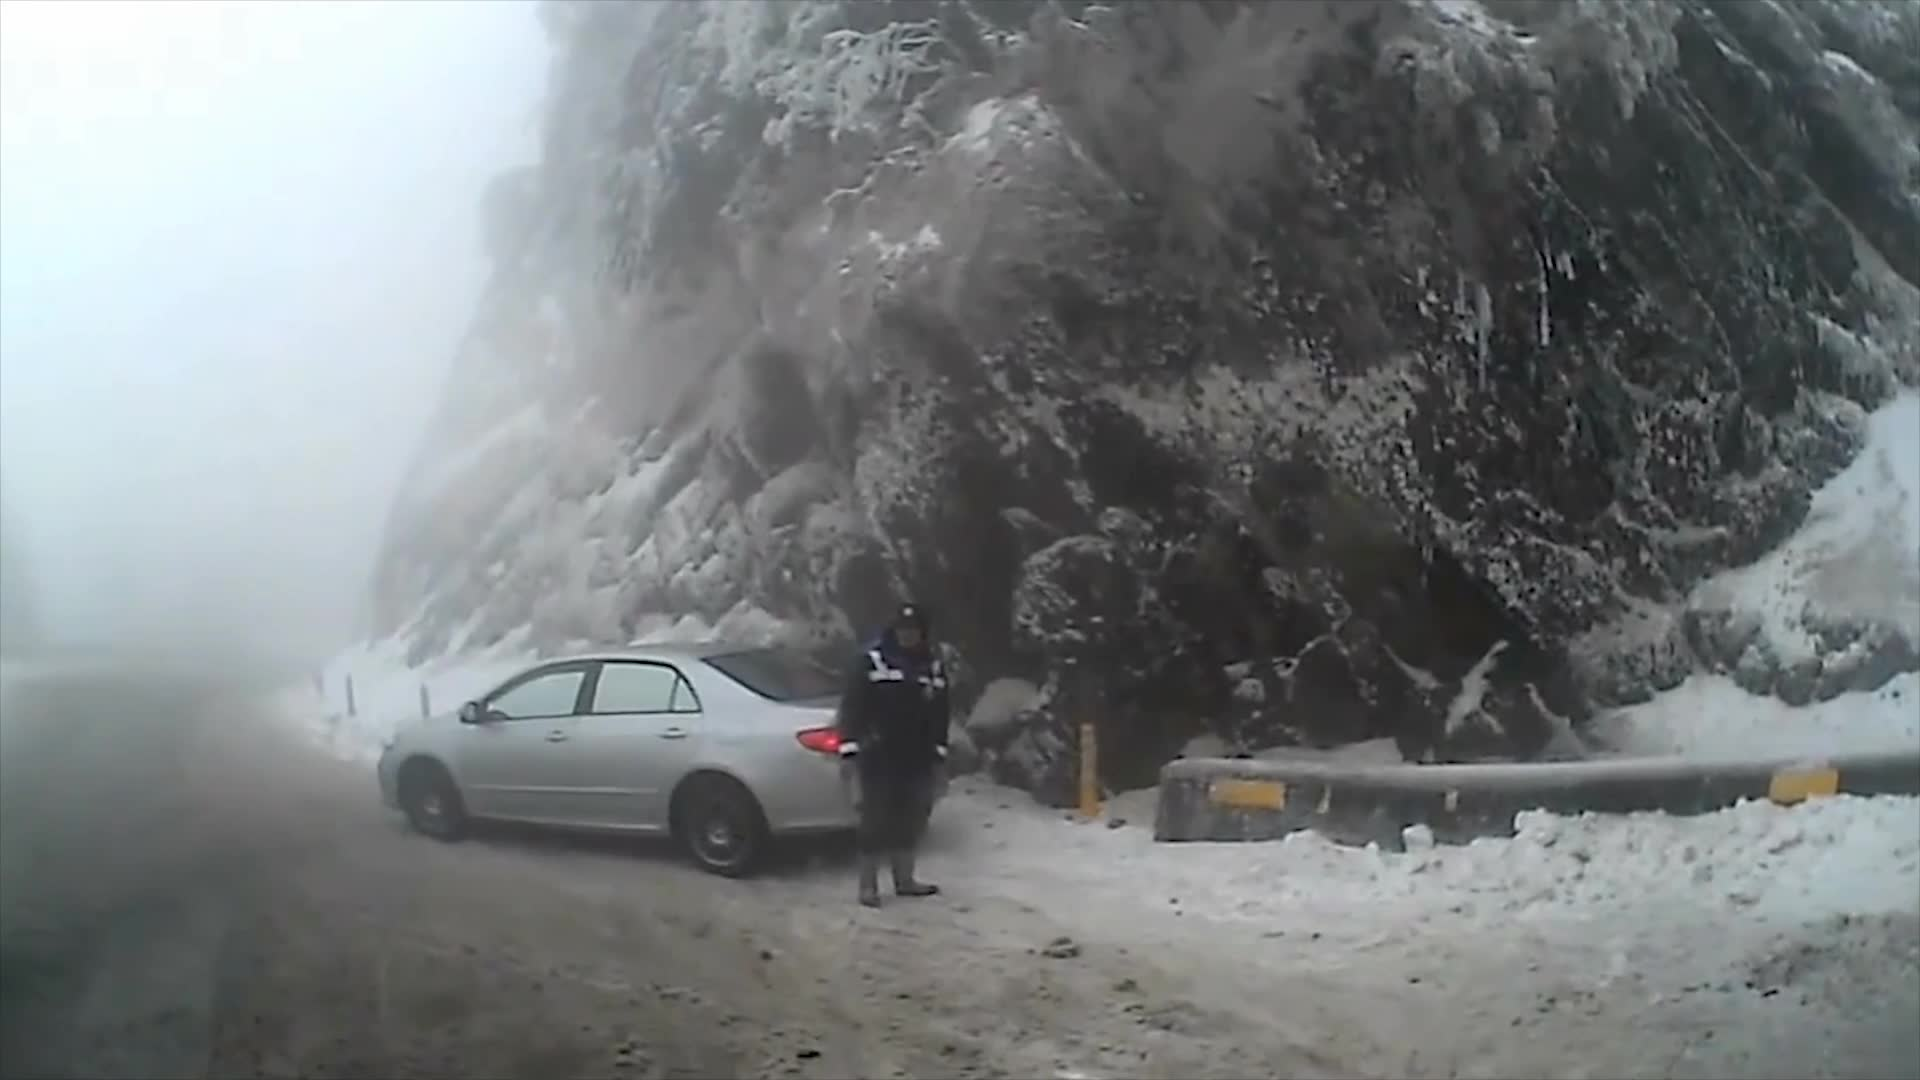pedestrian: (835, 599, 947, 909)
vehicle: (375, 639, 949, 875)
